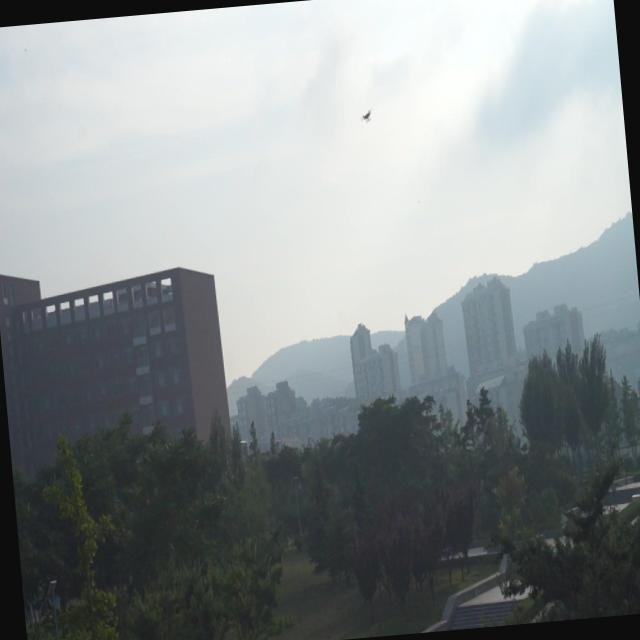drone: (358, 102, 375, 128)
